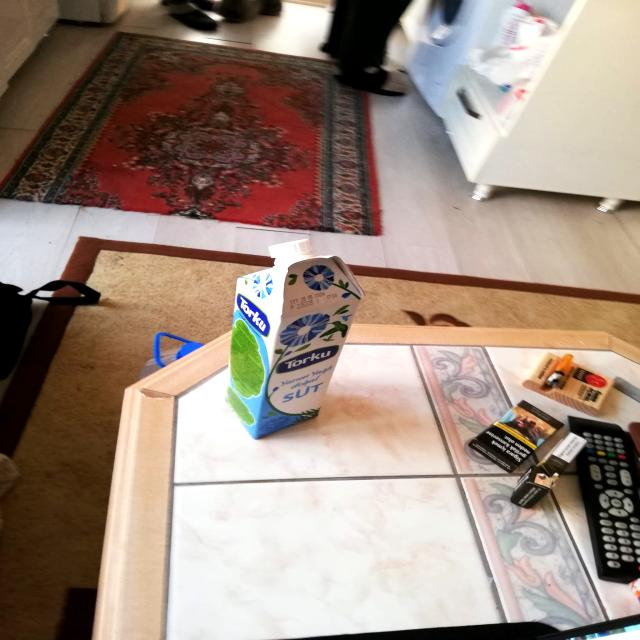milk: (211, 237, 368, 442)
